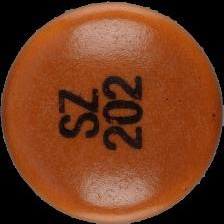0781-5914: (0, 0, 224, 224)
